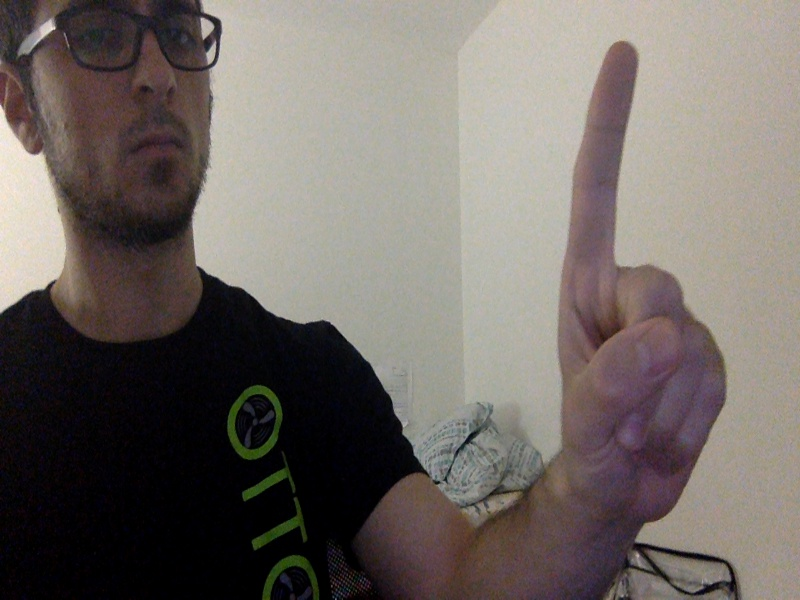1-hand: (560, 40, 730, 534)
